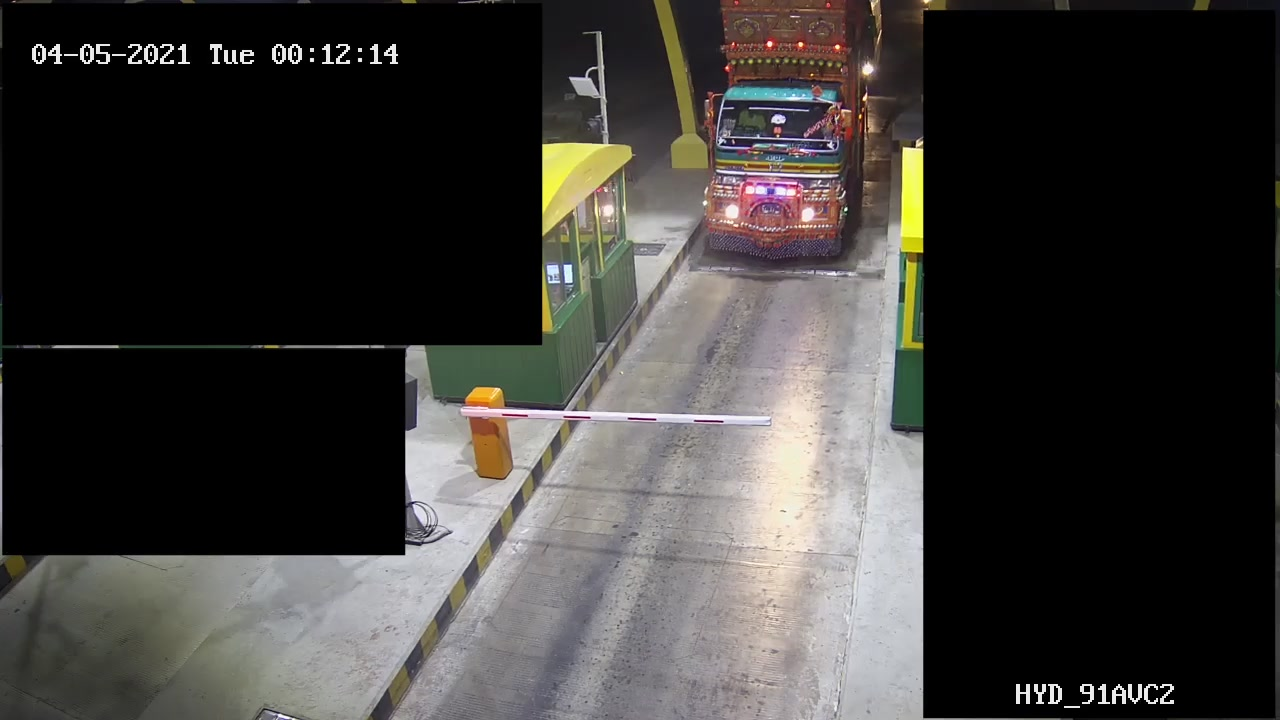F5: (683, 1, 879, 263)
